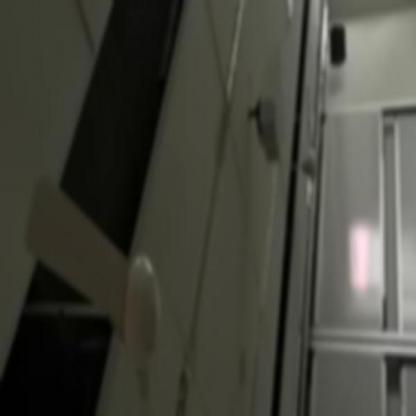light_off: (206, 0, 277, 106), (255, 166, 280, 310), (157, 346, 207, 415), (283, 0, 303, 26)
